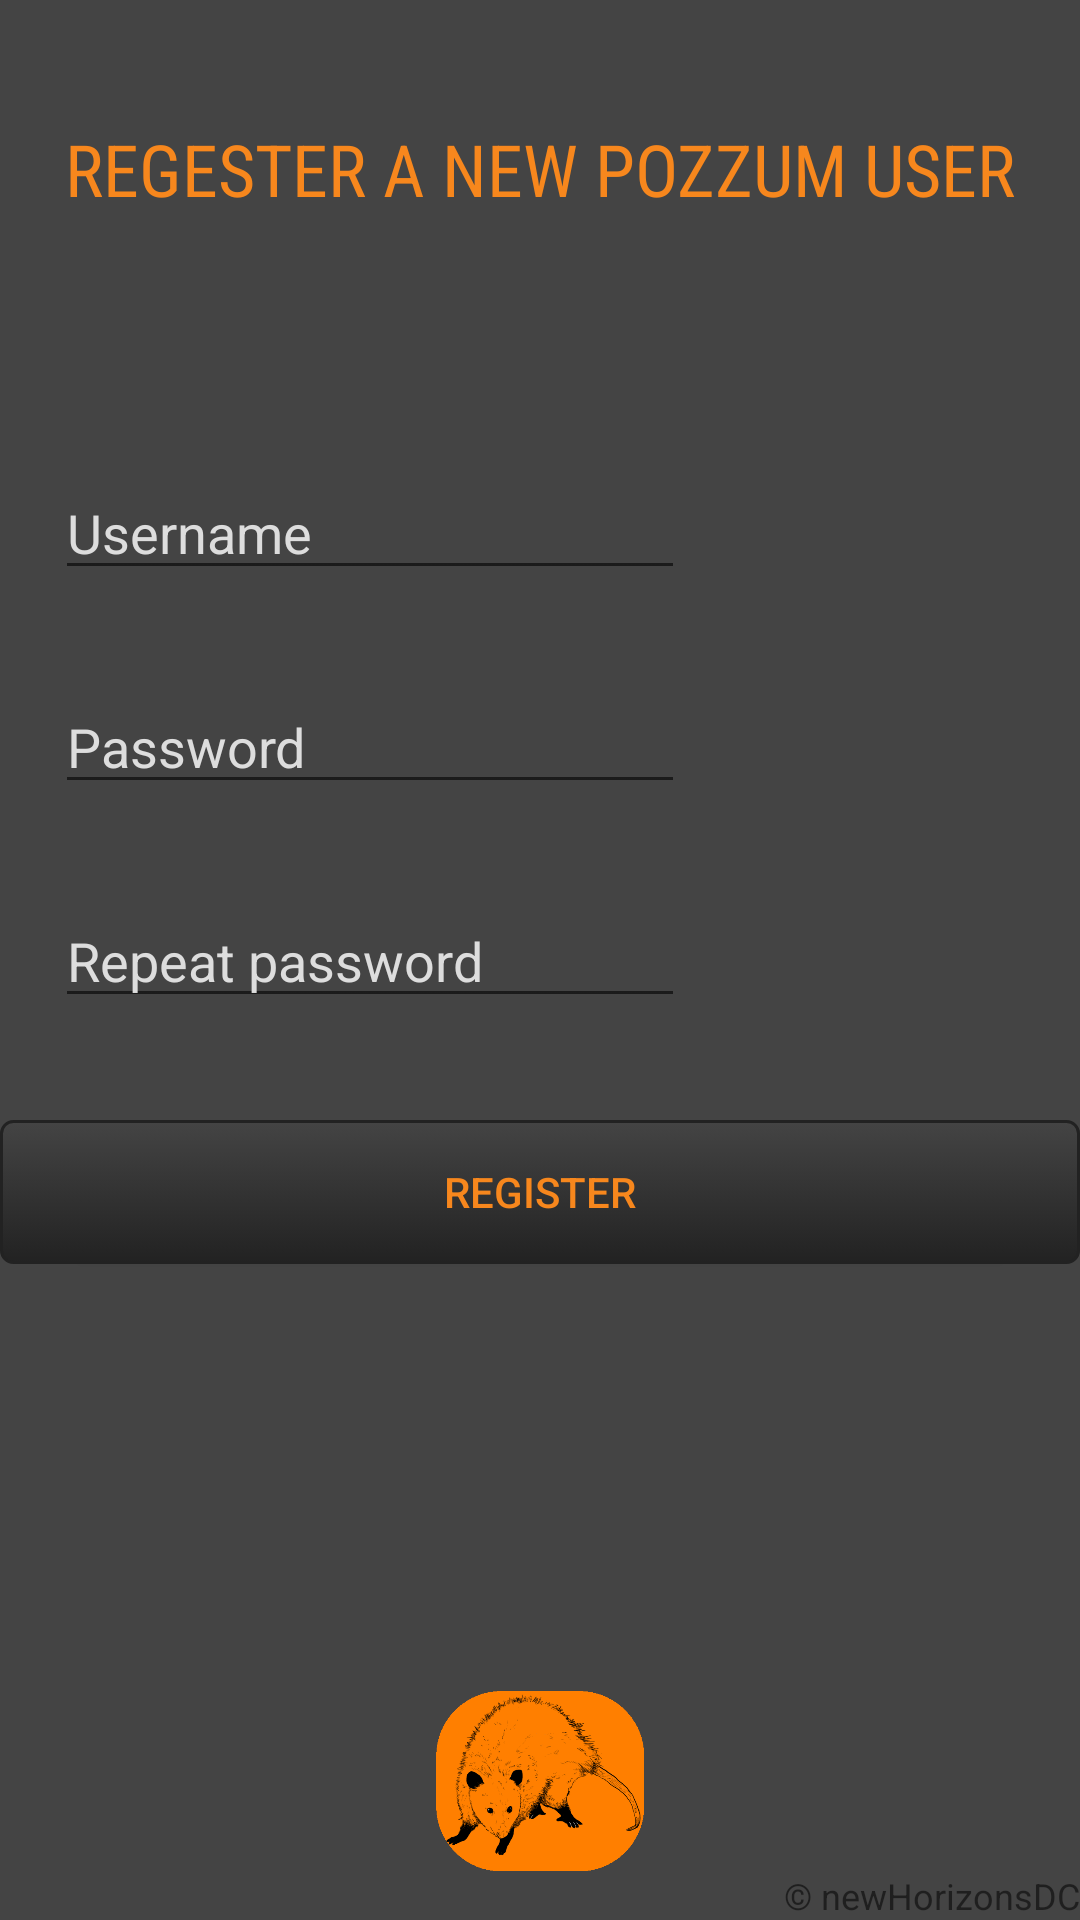

Named icons in this screenshot (1080*1920) and their centers, (x,y):
possum: (540,1781)
